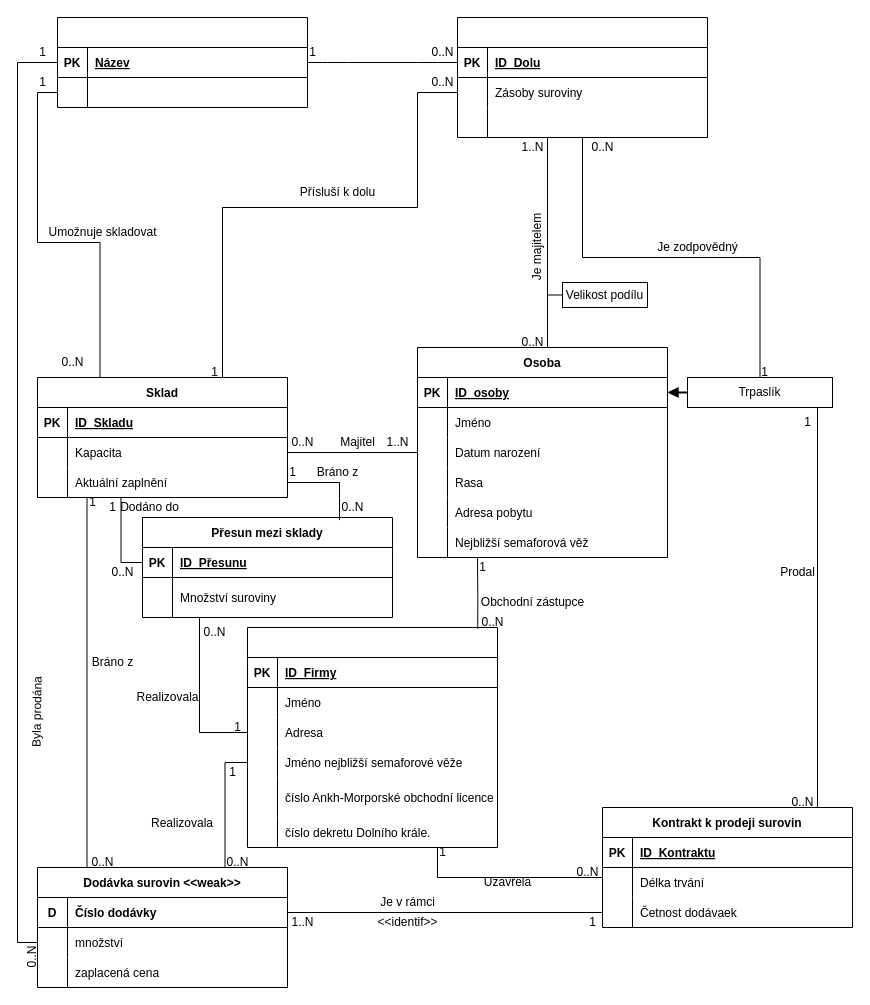
Image size: 870x1005. Some labels were removed from this diagram. Here are the shapes that lost their labels. From the top down, the box of each, then its label:
(56, 16, 308, 108): Surovina
(456, 16, 708, 138): Důl
(246, 626, 498, 848): Firma
